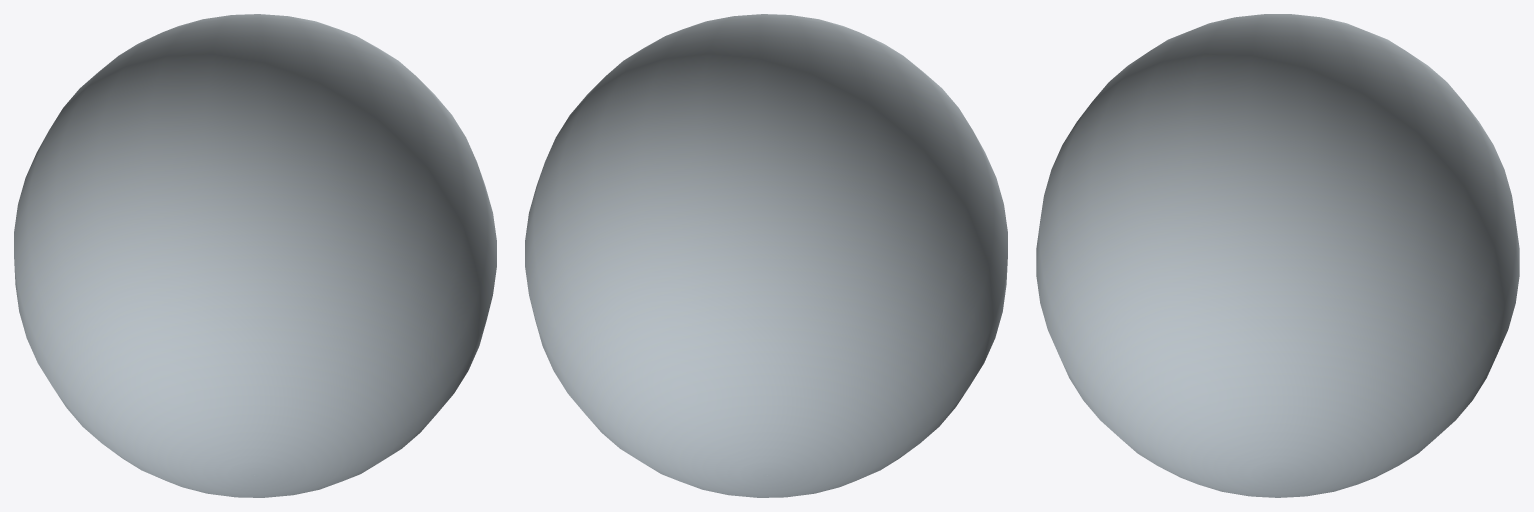
File: sphere_backfaced.glb
3 renders of one model, left to right at view 1: azimuth 30°, elevation 25°; view 2: azimuth 150°, elevation 25°; view 3: azimuth 270°, elevation 25°, orthographic.
Parts seen in each view (by area): view 1: Sphere - baked; view 2: Sphere - baked; view 3: Sphere - baked.
Part boxes in pixels (x1,y1,x2,y2): Sphere - baked: (14, 14, 496, 497); Sphere - baked: (525, 14, 1007, 497); Sphere - baked: (1036, 14, 1519, 497).
Size of the model in its own units: 0.0994 by 0.1 by 0.0996.
1 material, 1 textured.
